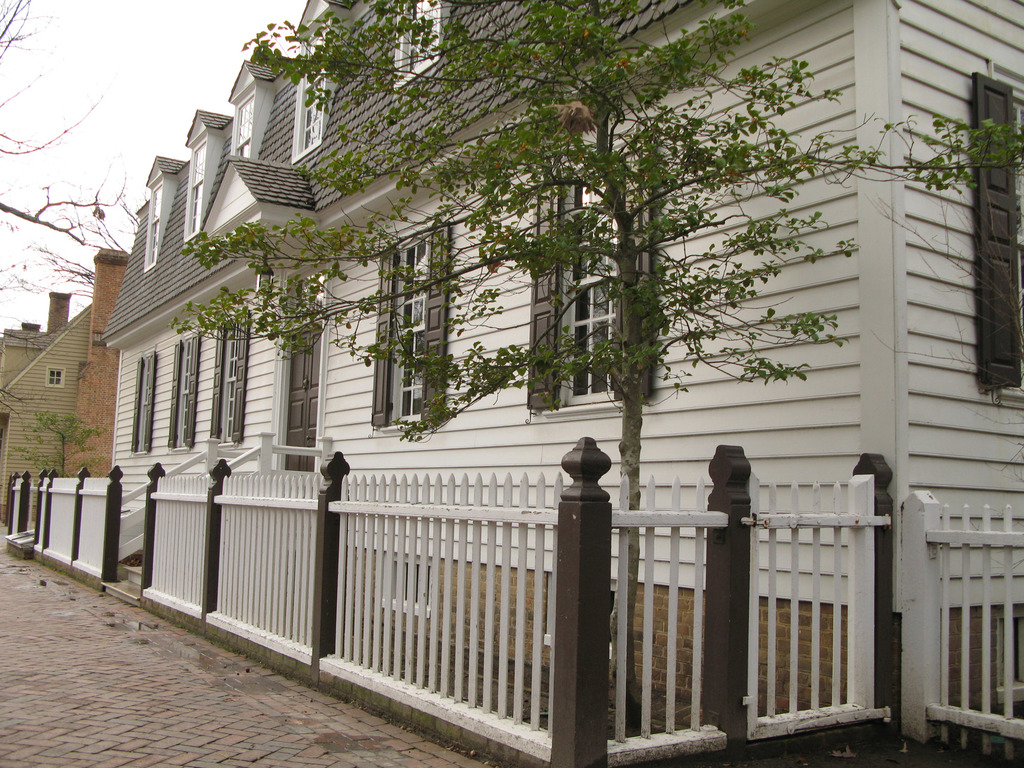Tree: (164, 0, 1023, 728), (0, 0, 147, 420)
